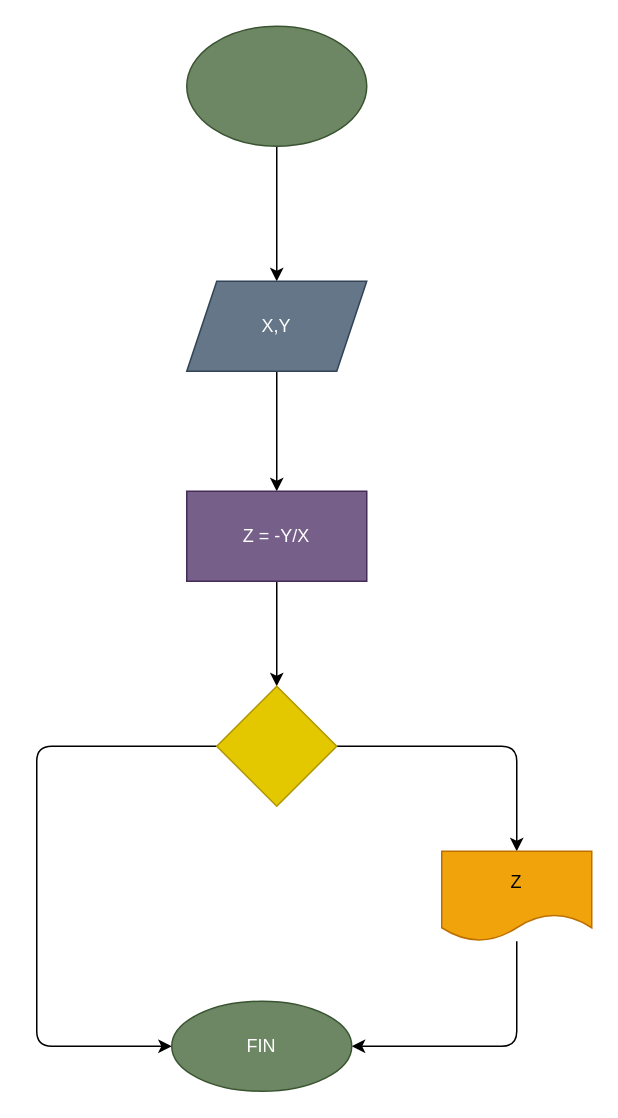
Some shapes in this 618 by 1118 pixel diagram are drawn without their labels. Here are the shapes that lost their labels. From the top down, the centre of each, then its label:
(x=276, y=85): INICIO
(x=276, y=745): X != 0
